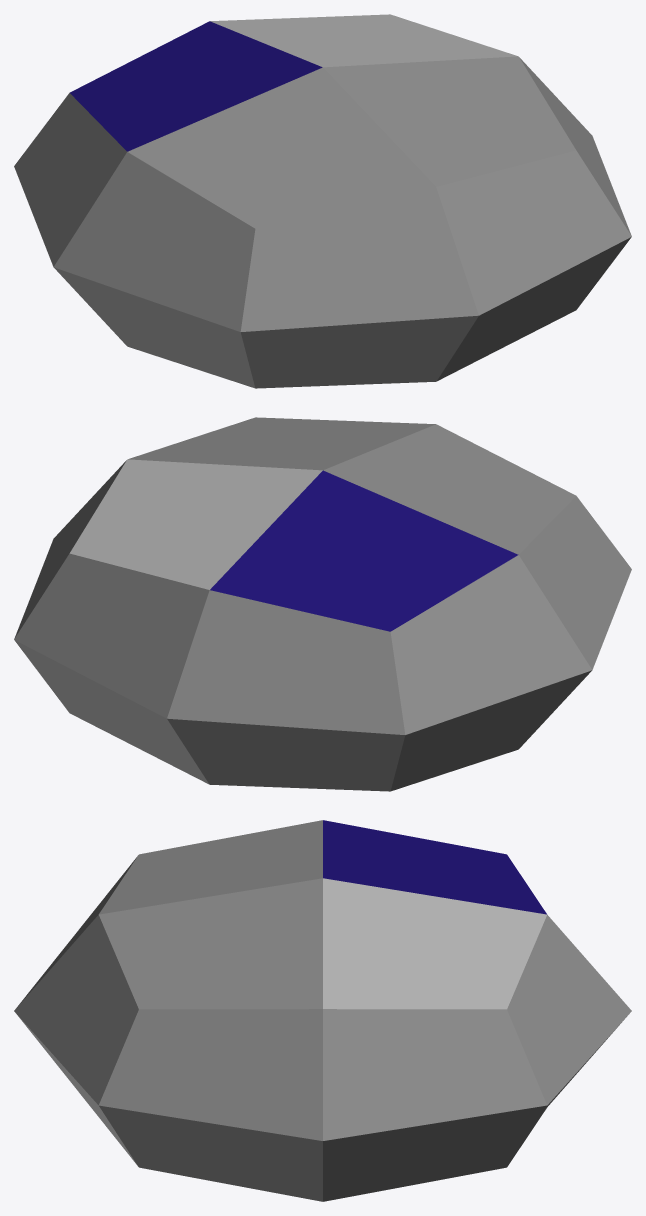
File: cailloux.glb
3 views of the same model, one above another, from view 1: azimuth 30°, elevation 25°; view 2: azimuth 150°, elevation 25°; view 3: azimuth 270°, elevation 25° (orthographic).
Visible parts, largest first — view 1: Cube; view 2: Cube; view 3: Cube.
Part boxes in pixels (x1,y1,x2,y2): Cube: (14, 14, 631, 388); Cube: (14, 417, 631, 791); Cube: (14, 820, 631, 1201).
Bounding box in the file's own units: 2.64 × 1.25 × 2.65.
